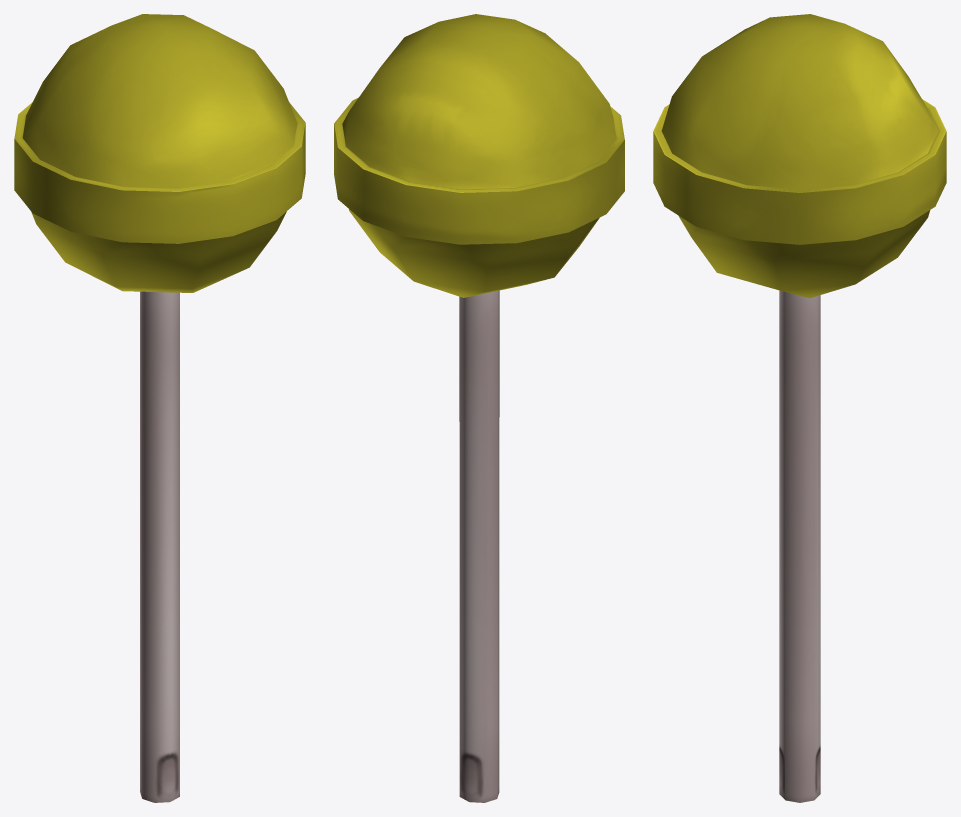
The model's file is lollipopyellow.fbx.
The picture shows the model from 3 angles, left to right: view 1: azimuth 30°, elevation 25°; view 2: azimuth 150°, elevation 25°; view 3: azimuth 270°, elevation 25°; orthographic projection.
Visible parts, largest first — view 1: lollipopyellow; view 2: lollipopyellow; view 3: lollipopyellow.
Part boxes in pixels (x1,y1,x2,y2): lollipopyellow: (14,14,305,802); lollipopyellow: (334,14,624,802); lollipopyellow: (653,14,946,802).
Bounding box in the file's own units: 7.52 × 21.74 × 7.52.
